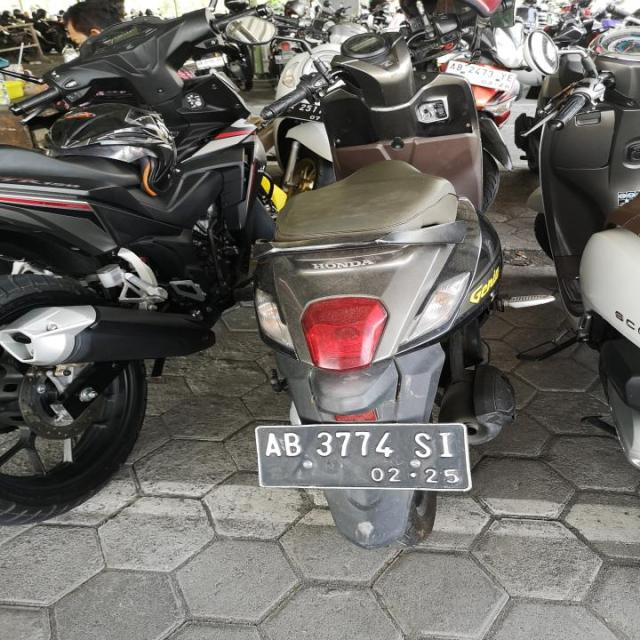License Plate: (251, 422, 472, 496), (444, 60, 517, 93)
